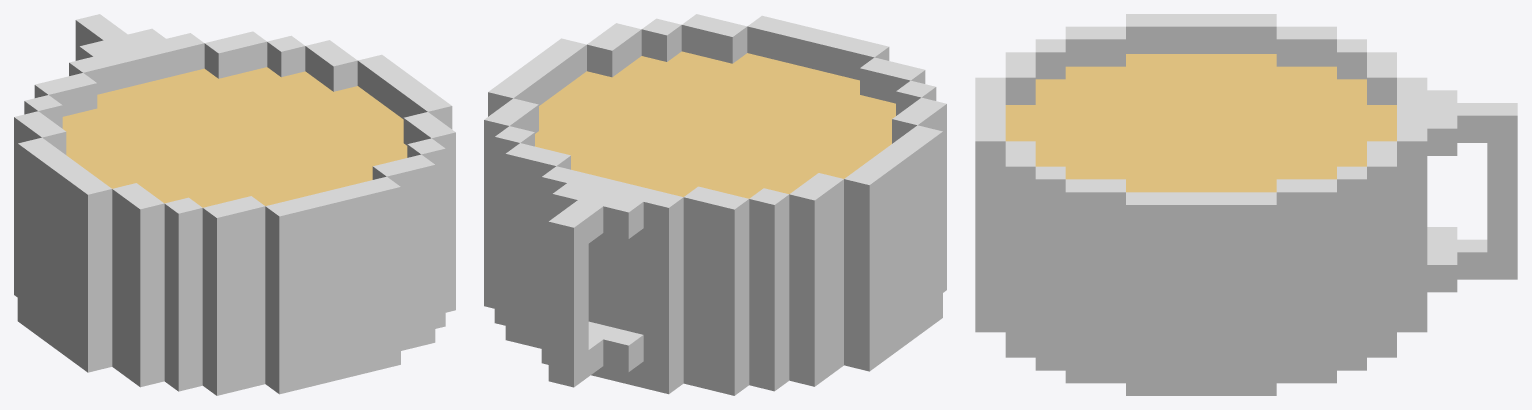
The model's file is Soy_Complete.fbx.
3 views of the same model, side by side, from view 1: azimuth 30°, elevation 25°; view 2: azimuth 150°, elevation 25°; view 3: azimuth 270°, elevation 25° (orthographic). The views are drawn at different scales.
Visible parts, largest first — view 1: Soy_Complete:Soy_Complete; view 2: Soy_Complete:Soy_Complete; view 3: Soy_Complete:Soy_Complete.
Boxes of the visible parts, left/top/right/bottom form: Soy_Complete:Soy_Complete: left=14, top=14, right=455, bottom=395; Soy_Complete:Soy_Complete: left=484, top=14, right=946, bottom=395; Soy_Complete:Soy_Complete: left=975, top=14, right=1517, bottom=395.
Bounding box in the file's own units: 15 × 8 × 18.
